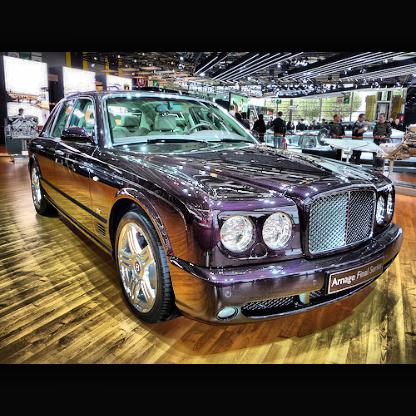Bentley Arnage Sedan 2009: (26, 87, 407, 327)
